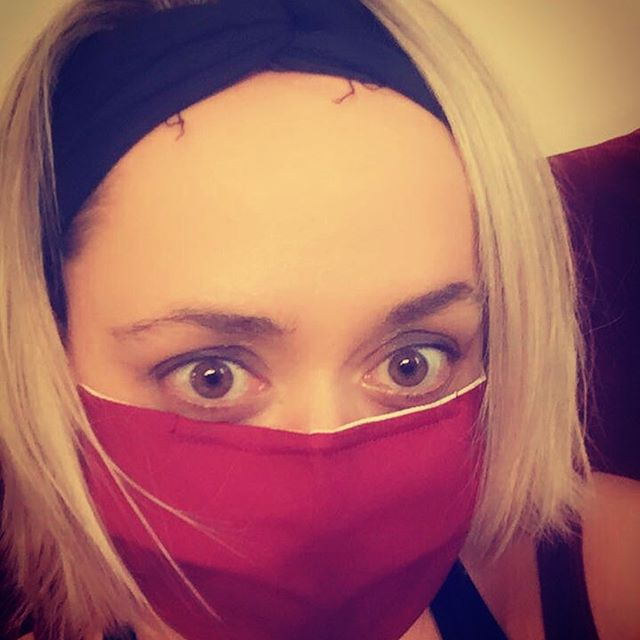homemade: (80, 391, 493, 640)
